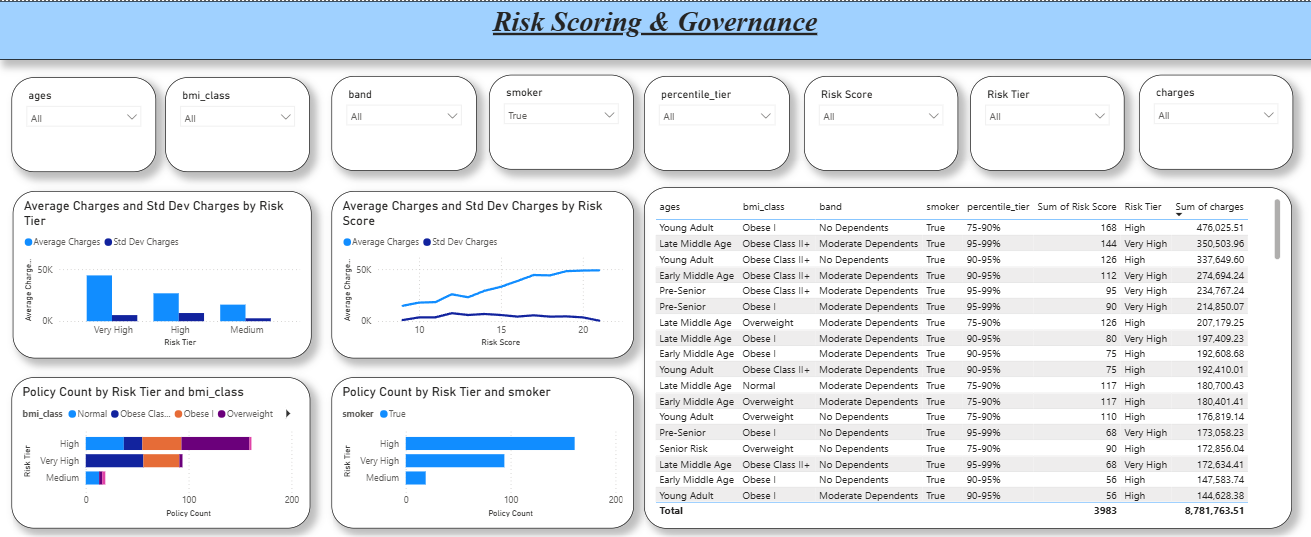

This screenshot's page, from the dashboard's own definition file:
{"tool":"powerbi","page":{"name":"Risk Scoring & Governance","canvas":[1750,720],"ordinal":4},"visuals":[{"type":"textbox","box":[0,0,1750,78.4],"z":0},{"type":"clusteredColumnChart","fields":{"Category":["vw_insurance_fact.Risk Tier"],"Y":["vw_insurance_fact.Average Charges","vw_insurance_fact.Std Dev Charges"]},"box":[17.9,253.6,398.2,223.2],"z":1000},{"type":"barChart","fields":{"Category":["vw_insurance_fact.Risk Tier"],"Y":["vw_insurance_fact.Policy Count"],"Series":["vw_insurance_fact.bmi_class"]},"box":[16.1,501.8,398.2,201.8],"z":2000},{"type":"tableEx","fields":{"Values":["vw_insurance_fact.ages","vw_insurance_fact.bmi_class","vw_insurance_fact.band","vw_insurance_fact.smoker","vw_insurance_fact.percentile_tier","Sum(vw_insurance_fact.Risk Score)","vw_insurance_fact.Risk Tier","Sum(vw_insurance_fact.charges)"]},"box":[860.7,248.2,864.3,455.4],"z":3000},{"type":"slicer","fields":{"Values":["vw_insurance_fact.ages"]},"box":[16.1,101.8,192.9,126.8],"z":4000},{"type":"slicer","fields":{"Values":["vw_insurance_fact.bmi_class"]},"box":[221.4,101.8,192.9,126.8],"z":5000},{"type":"slicer","fields":{"Values":["vw_insurance_fact.band"]},"box":[442.5,100,193.8,126.2],"z":6000},{"type":"slicer","fields":{"Values":["vw_insurance_fact.smoker"]},"box":[653.6,98.2,192.9,126.8],"z":7000},{"type":"slicer","fields":{"Values":["vw_insurance_fact.percentile_tier"]},"box":[860.7,100,194.6,126.8],"z":8000},{"type":"slicer","fields":{"Values":["vw_insurance_fact.Risk Score"]},"box":[1073.2,100,205.4,126.8],"z":9000},{"type":"slicer","fields":{"Values":["vw_insurance_fact.Risk Tier"]},"box":[1294.6,100,205.4,126.8],"z":10000},{"type":"slicer","fields":{"Values":["vw_insurance_fact.charges"]},"box":[1519.6,98.2,205.4,126.8],"z":11000},{"type":"barChart","fields":{"Category":["vw_insurance_fact.Risk Tier"],"Y":["vw_insurance_fact.Policy Count"],"Series":["vw_insurance_fact.smoker"]},"box":[442.9,501.8,403.6,201.8],"z":12000},{"type":"lineChart","fields":{"Category":["vw_insurance_fact.Risk Score"],"Y":["vw_insurance_fact.Average Charges","vw_insurance_fact.Std Dev Charges"]},"box":[442.9,253.6,403.6,223.2],"z":13000}]}

Visuals, with their boxes in screenshot pixels (x1, y1, x2, y2), scaled from the page's 1750x720 canvas onto the 1311x537 screenshot:
textbox: bbox=(0, 0, 1310, 58)
clusteredColumnChart - vw_insurance_fact.Risk Tier x vw_insurance_fact.Average Charges: bbox=(13, 189, 312, 356)
barChart - vw_insurance_fact.Risk Tier x vw_insurance_fact.Policy Count: bbox=(12, 374, 310, 525)
tableEx - vw_insurance_fact.ages x vw_insurance_fact.bmi_class: bbox=(645, 185, 1292, 525)
slicer - vw_insurance_fact.ages: bbox=(12, 76, 157, 170)
slicer - vw_insurance_fact.bmi_class: bbox=(166, 76, 310, 170)
slicer - vw_insurance_fact.band: bbox=(331, 75, 477, 169)
slicer - vw_insurance_fact.smoker: bbox=(490, 73, 634, 168)
slicer - vw_insurance_fact.percentile_tier: bbox=(645, 75, 791, 169)
slicer - vw_insurance_fact.Risk Score: bbox=(804, 75, 958, 169)
slicer - vw_insurance_fact.Risk Tier: bbox=(970, 75, 1124, 169)
slicer - vw_insurance_fact.charges: bbox=(1138, 73, 1292, 168)
barChart - vw_insurance_fact.Risk Tier x vw_insurance_fact.Policy Count: bbox=(332, 374, 634, 525)
lineChart - vw_insurance_fact.Risk Score x vw_insurance_fact.Average Charges: bbox=(332, 189, 634, 356)
